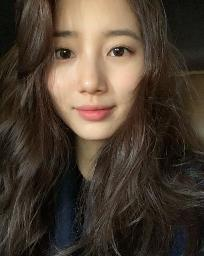face: (50, 2, 142, 138)
